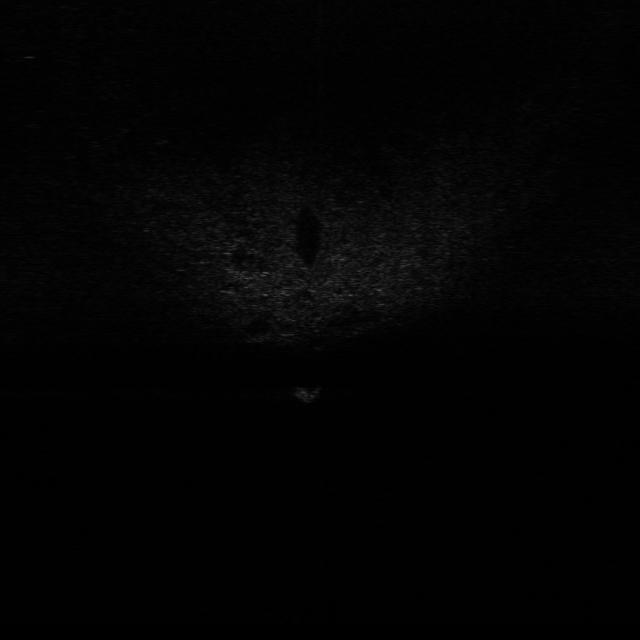cube: (294, 383, 320, 404)
